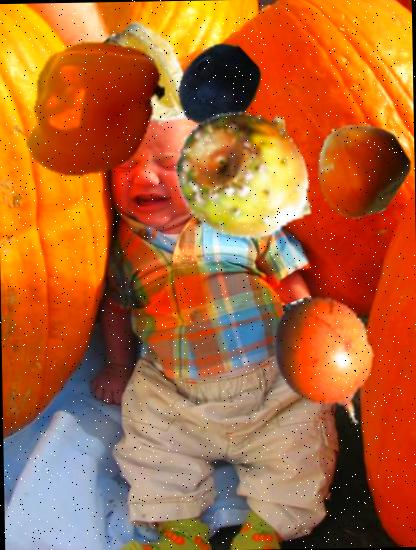Blueberry: (172, 42, 262, 132)
Cactus: (172, 97, 324, 249)
Granadilla: (256, 293, 396, 432)
Nut: (311, 119, 410, 218)
Pepper: (25, 39, 165, 179)
Physalis: (86, 24, 204, 142)
